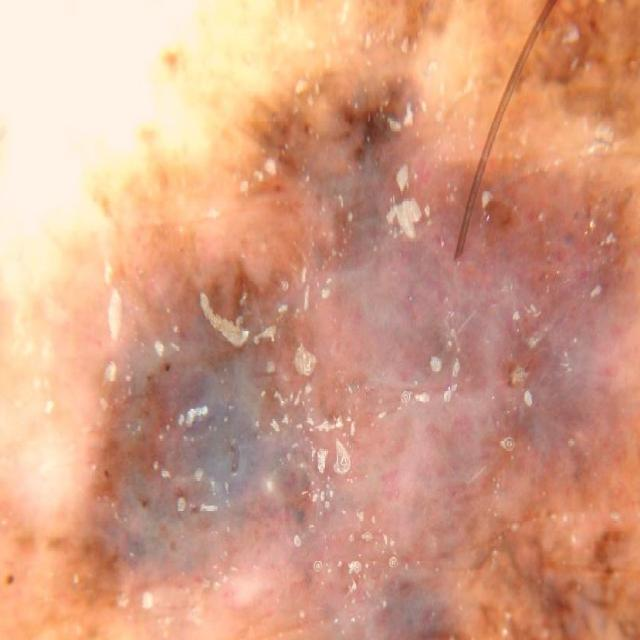Melanoma: (76, 185, 531, 640)
